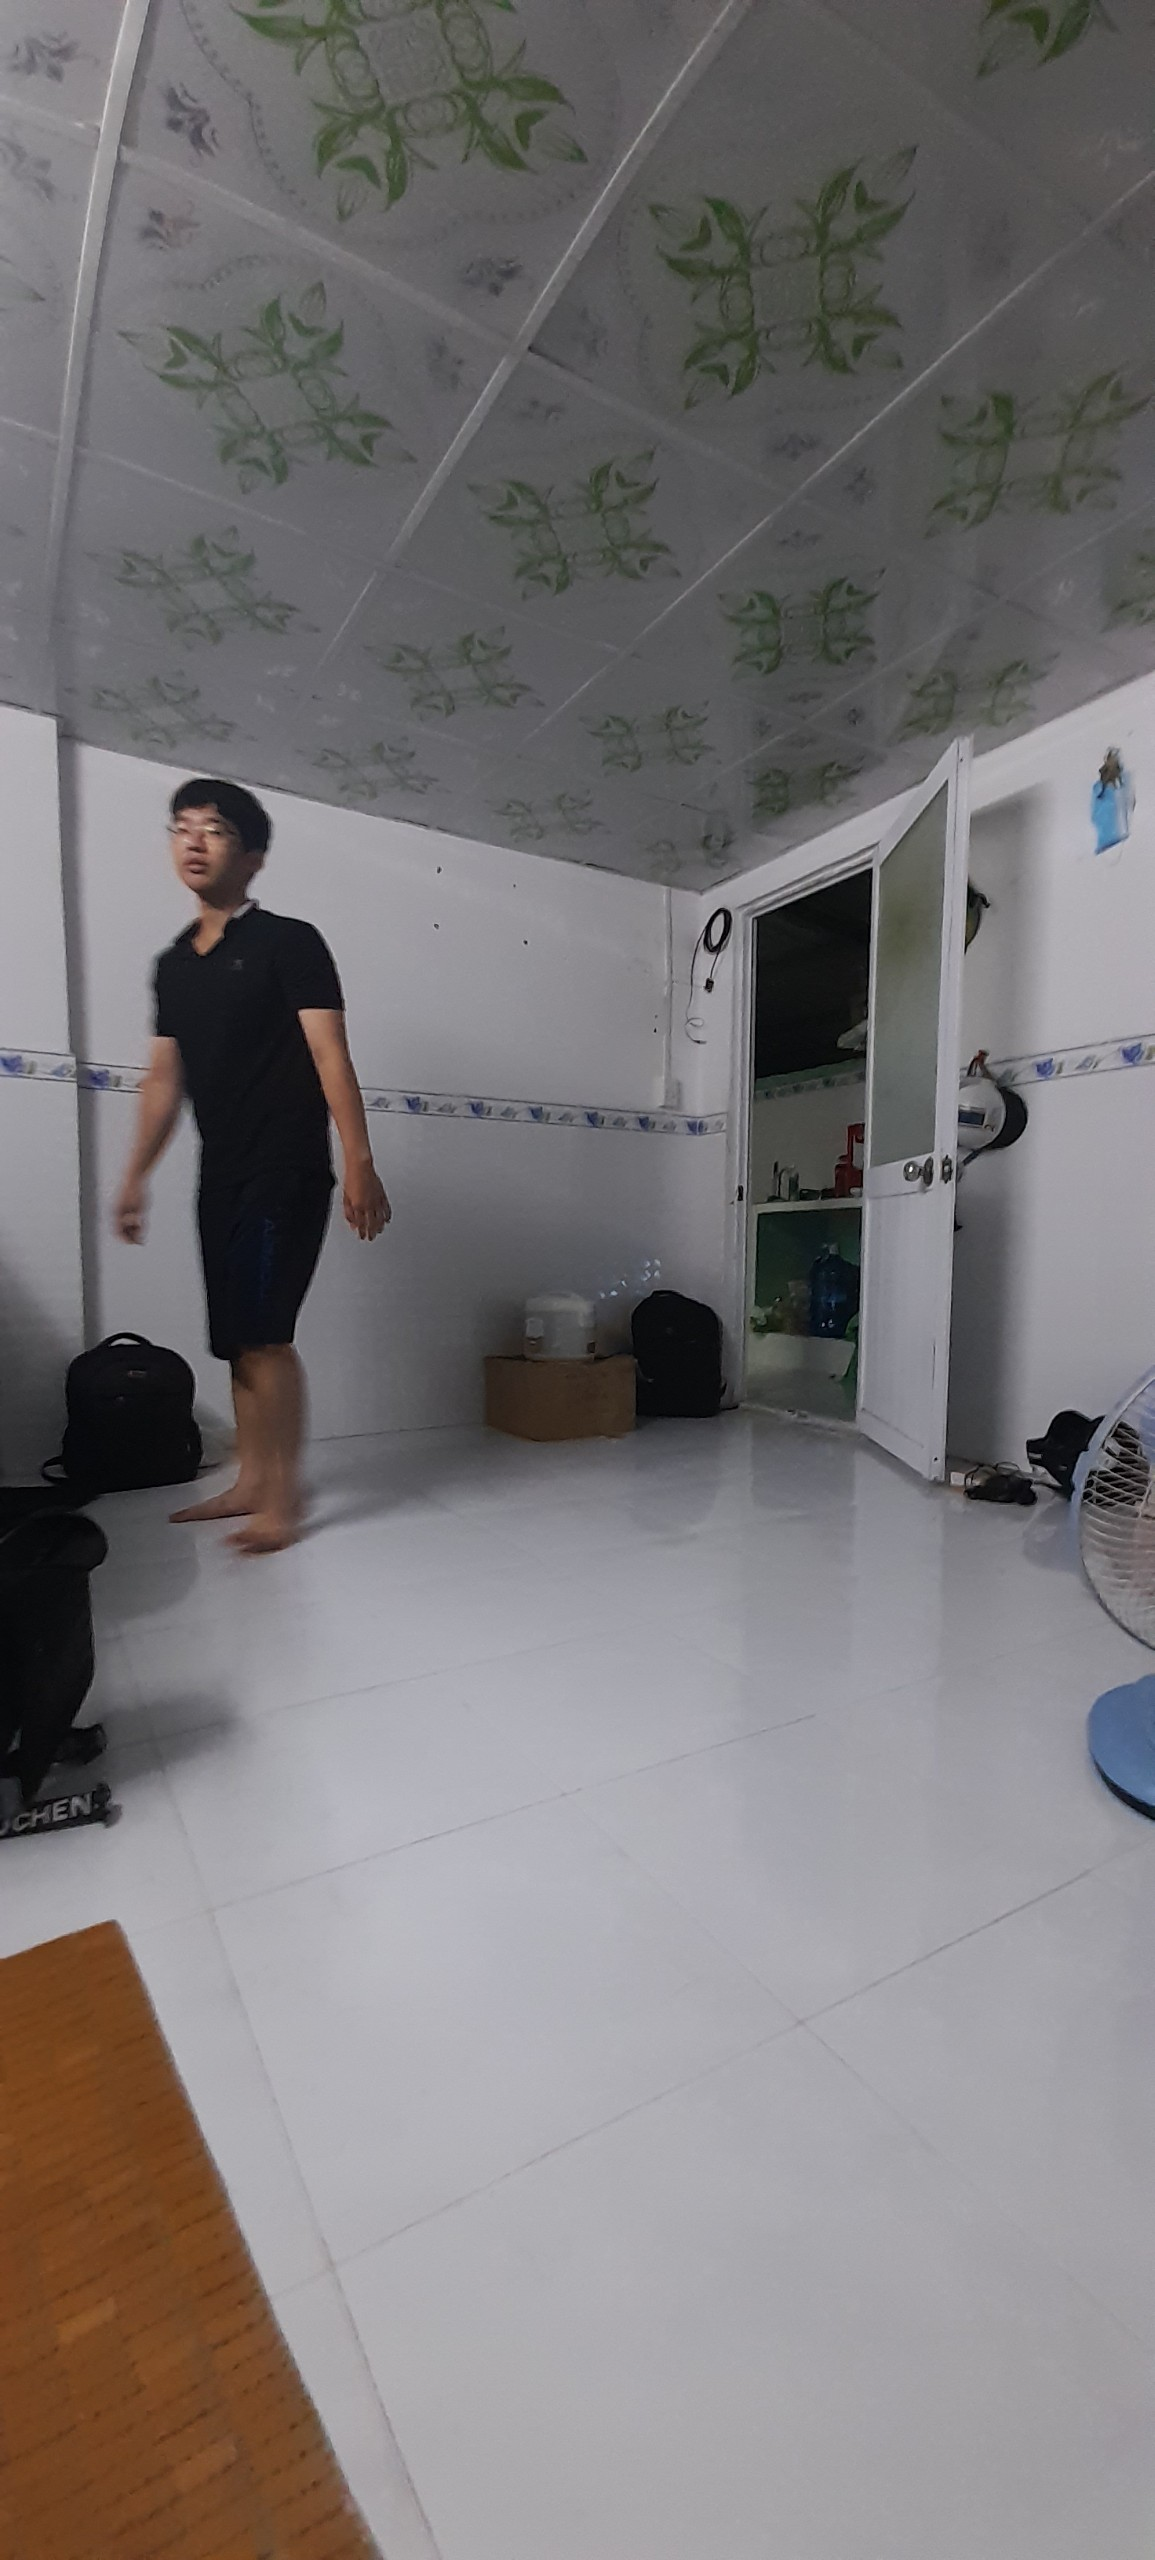person: (168, 776, 346, 1549)
